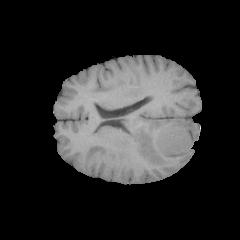glioma: (130, 119, 197, 166)
